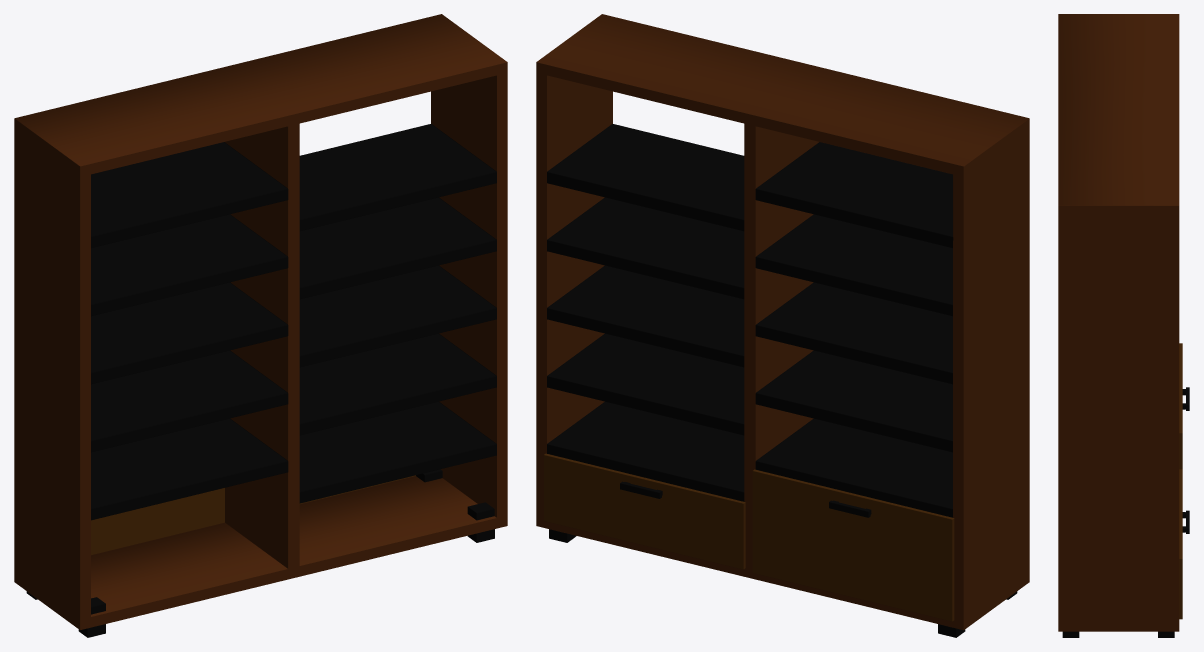
Rendered from Mueble.fbx.
3 renders of one model, left to right at view 1: azimuth 30°, elevation 25°; view 2: azimuth 150°, elevation 25°; view 3: azimuth 270°, elevation 25°, orthographic. The views are drawn at different scales.
Parts seen in each view (by area): view 1: BookCase; view 2: BookCase; view 3: BookCase.
Part boxes in pixels (<box>): BookCase: <box>14,14,507,637</box>; BookCase: <box>536,14,1029,637</box>; BookCase: <box>1058,14,1189,637</box>.
Size of the model in its own units: 174 by 185 by 50.35.
1 material, 1 textured.
